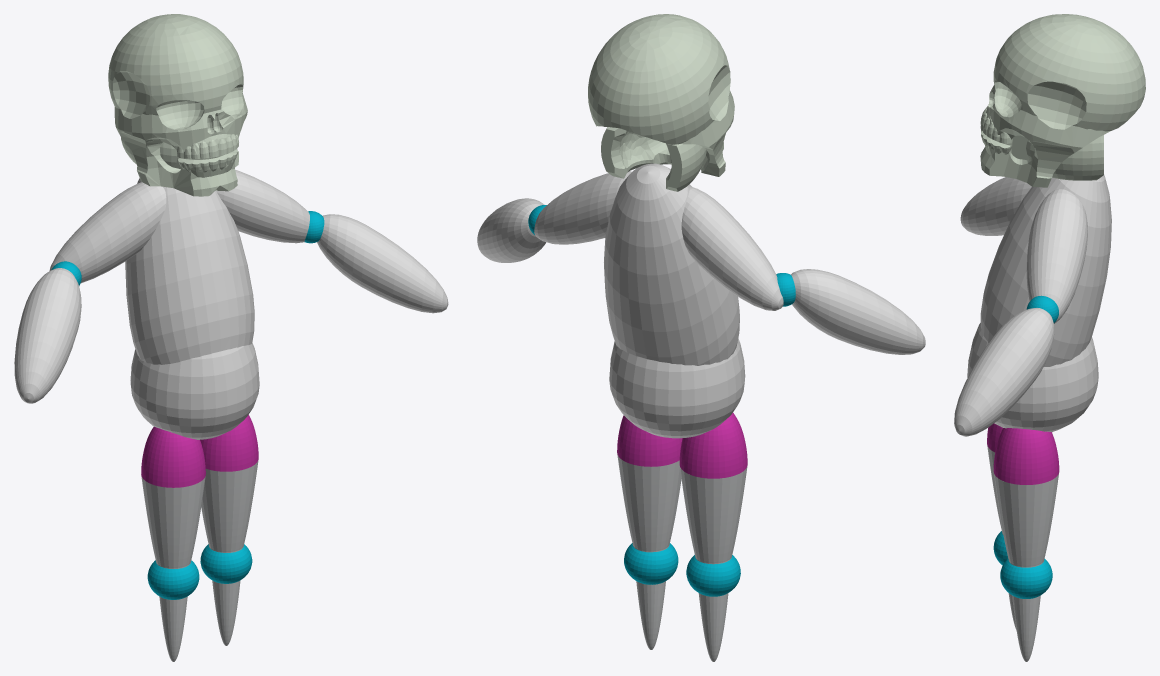
File: jasonhero2.glb
3 renders of one model, left to right at view 1: azimuth 30°, elevation 25°; view 2: azimuth 150°, elevation 25°; view 3: azimuth 270°, elevation 25°, orthographic. The views are drawn at different scales.
Parts seen in each view (by area): view 1: Mesh_Mesh_head_geo.001_lambert2SG.001; view 2: Mesh_Mesh_head_geo.001_lambert2SG.001; view 3: Mesh_Mesh_head_geo.001_lambert2SG.001.
Part boxes in pixels (x1,y1,x2,y2): Mesh_Mesh_head_geo.001_lambert2SG.001: (14,14,448,661); Mesh_Mesh_head_geo.001_lambert2SG.001: (477,14,925,661); Mesh_Mesh_head_geo.001_lambert2SG.001: (954,14,1145,661).
Size of the model in its own units: 75.48 by 105 by 29.16.
